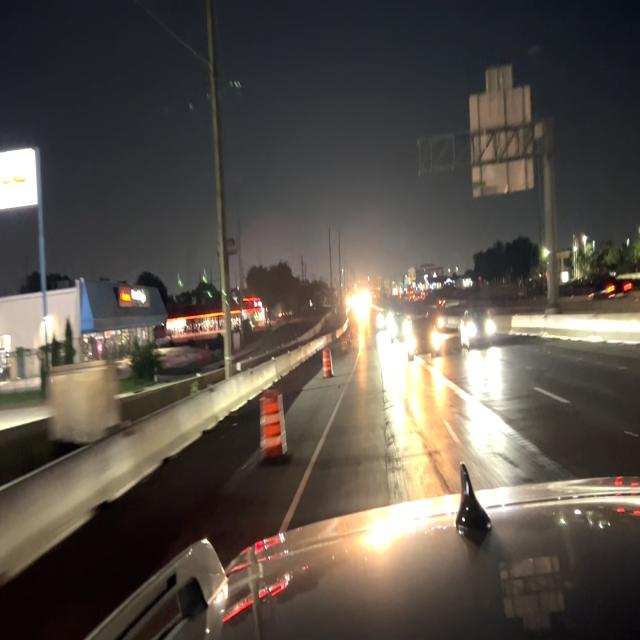back-of-sign: (465, 60, 541, 202)
